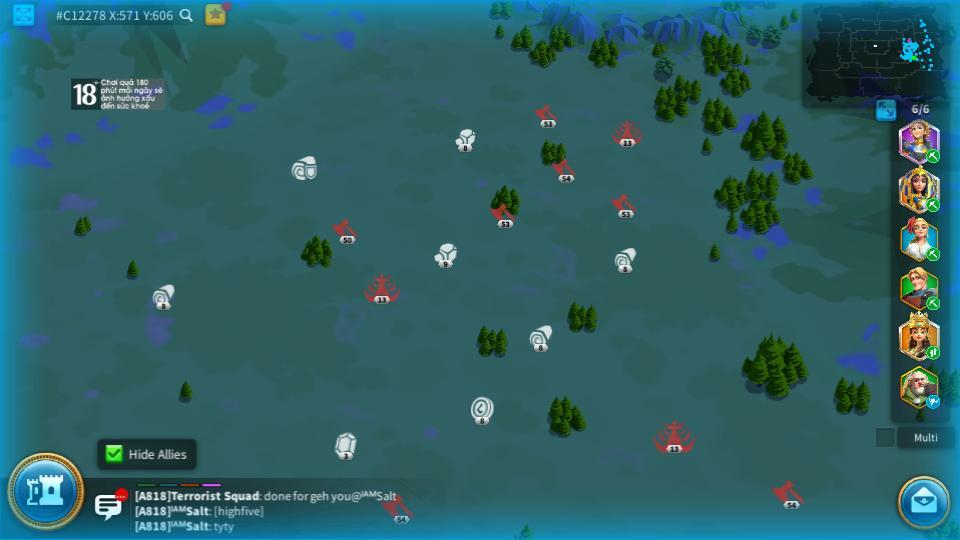gem-z-out: (333, 432, 358, 460)
march_farming: (924, 197, 939, 212), (924, 149, 939, 162), (924, 248, 939, 261), (925, 297, 941, 308)
march_idle: (925, 395, 942, 407)
march_marching: (925, 346, 941, 359)
